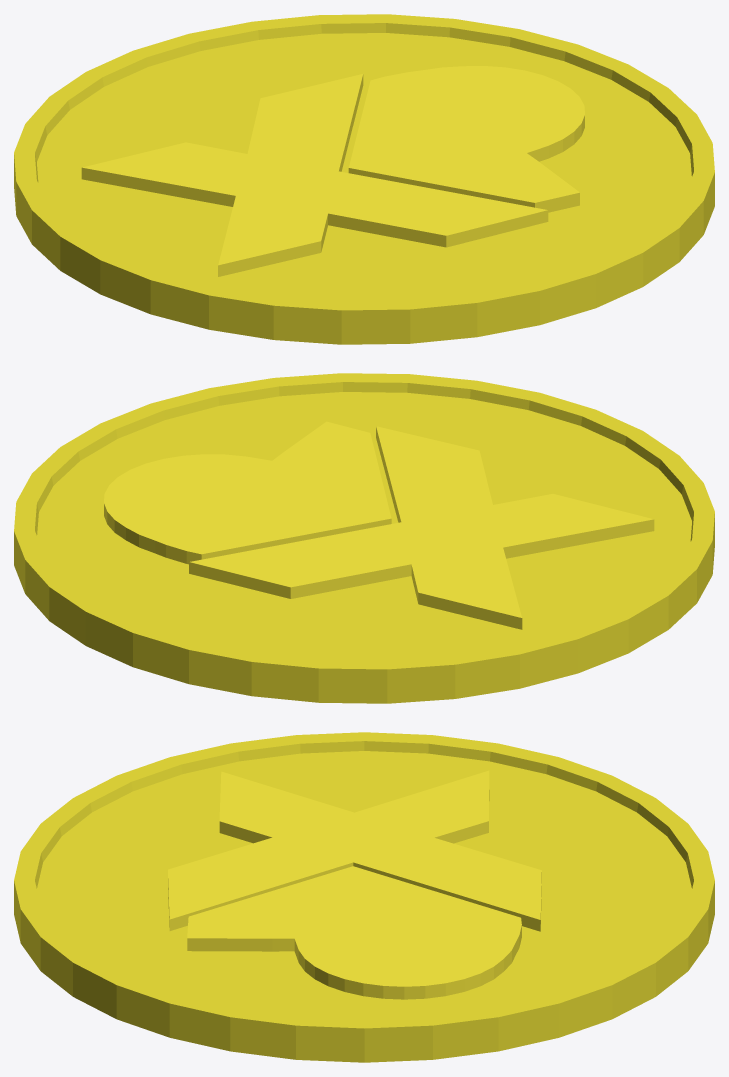
Rendered from XPCoin.fbx.
The picture shows the model from 3 angles, top to bottom: view 1: azimuth 30°, elevation 25°; view 2: azimuth 150°, elevation 25°; view 3: azimuth 270°, elevation 25°; orthographic projection.
Parts seen in each view (by area): view 1: Coin, LogoX, LogoP; view 2: Coin, LogoX, LogoP; view 3: Coin, LogoX, LogoP.
Boxes of the visible parts, x1=… form: Coin: x1=14, y1=14, x2=714, y2=344; LogoX: x1=81, y1=74, x2=548, y2=276; LogoP: x1=348, y1=66, x2=584, y2=212; Coin: x1=14, y1=373, x2=714, y2=703; LogoX: x1=189, y1=426, x2=654, y2=629; LogoP: x1=104, y1=421, x2=391, y2=564; Coin: x1=14, y1=732, x2=714, y2=1062; LogoX: x1=168, y1=770, x2=541, y2=931; LogoP: x1=187, y1=866, x2=521, y2=999.
Size of the model in its own units: 2 by 2 by 0.15.
